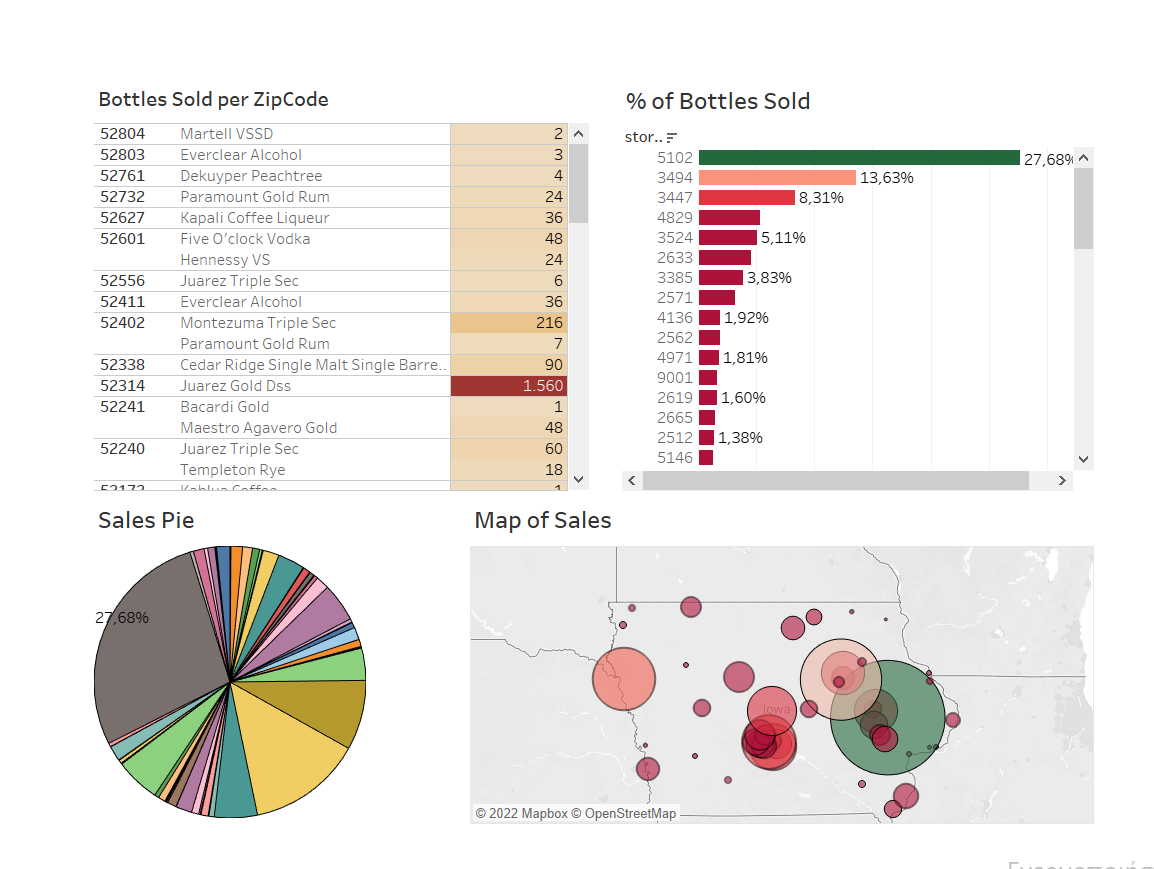

Layout of this report page (visuals, bound fields, positions):
{"tool":"tableau","page":{"name":"Dashboard 1","canvas":[1024,768],"ordinal":0},"visuals":[{"type":"worksheet","title":"ZipChart","mark":"Square","rows":["zip_code","item_description"],"box":[8,8,528,419]},{"type":"worksheet","title":"Percent","mark":"Automatic","rows":["store_number"],"cols":["vtsum"],"box":[536,8,480,419]},{"type":"worksheet","title":"Pie","mark":"Pie","box":[8,427,376,333]},{"type":"worksheet","title":"map","mark":"Automatic","box":[384,427,632,333]}]}

Visuals, with their boxes in screenshot pixels (x1, y1, x2, y2), scaled from the page's 1024x768 canvas onto the 1154x869 screenshot:
"ZipChart" worksheet (Square marks): {"x1": 9, "y1": 9, "x2": 604, "y2": 483}
"Percent" worksheet: {"x1": 604, "y1": 9, "x2": 1145, "y2": 483}
"Pie" worksheet (Pie marks): {"x1": 9, "y1": 483, "x2": 433, "y2": 860}
"map" worksheet: {"x1": 433, "y1": 483, "x2": 1145, "y2": 860}
